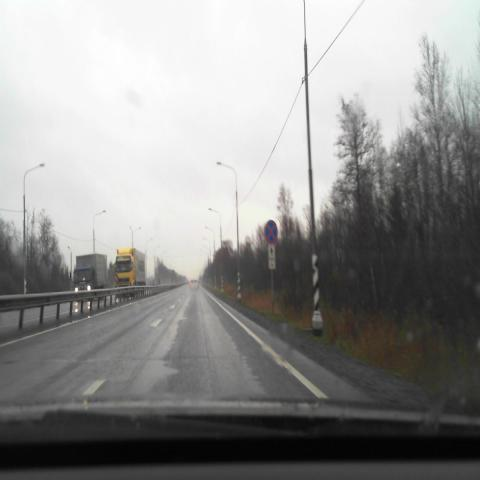3_27: (264, 219, 278, 244)
